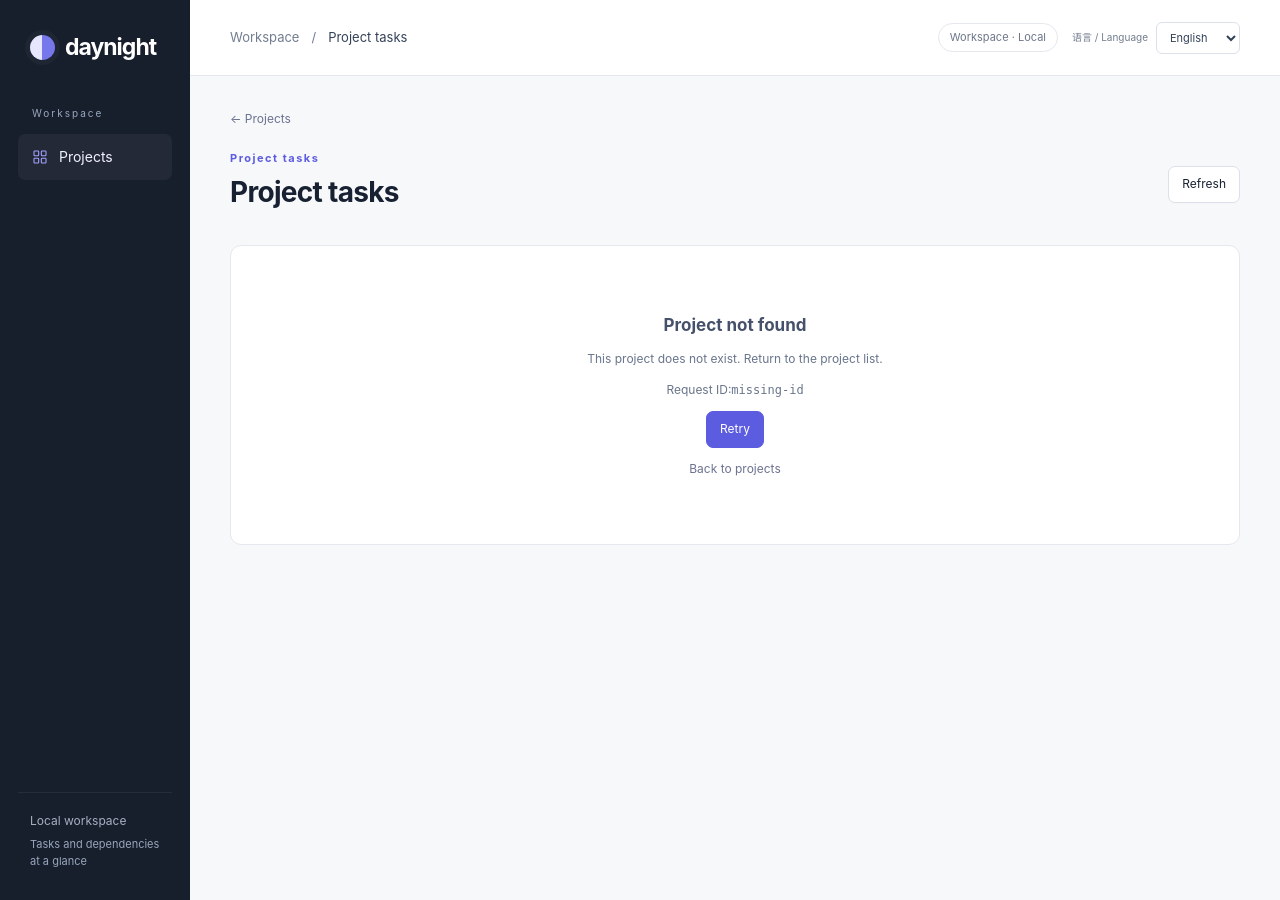
workspace localization › retranslates an existing {"name":"ApiError","kind":"server","status":404,"code":"not_found","requestId":"missing-id"} error and retains its request ID without r
Expected: the heading "Project not found" is shown, [664,312,806,338]
Step 1. Select "简体中文" in the dropdown → (1198, 38), box [1156,22,1240,54]
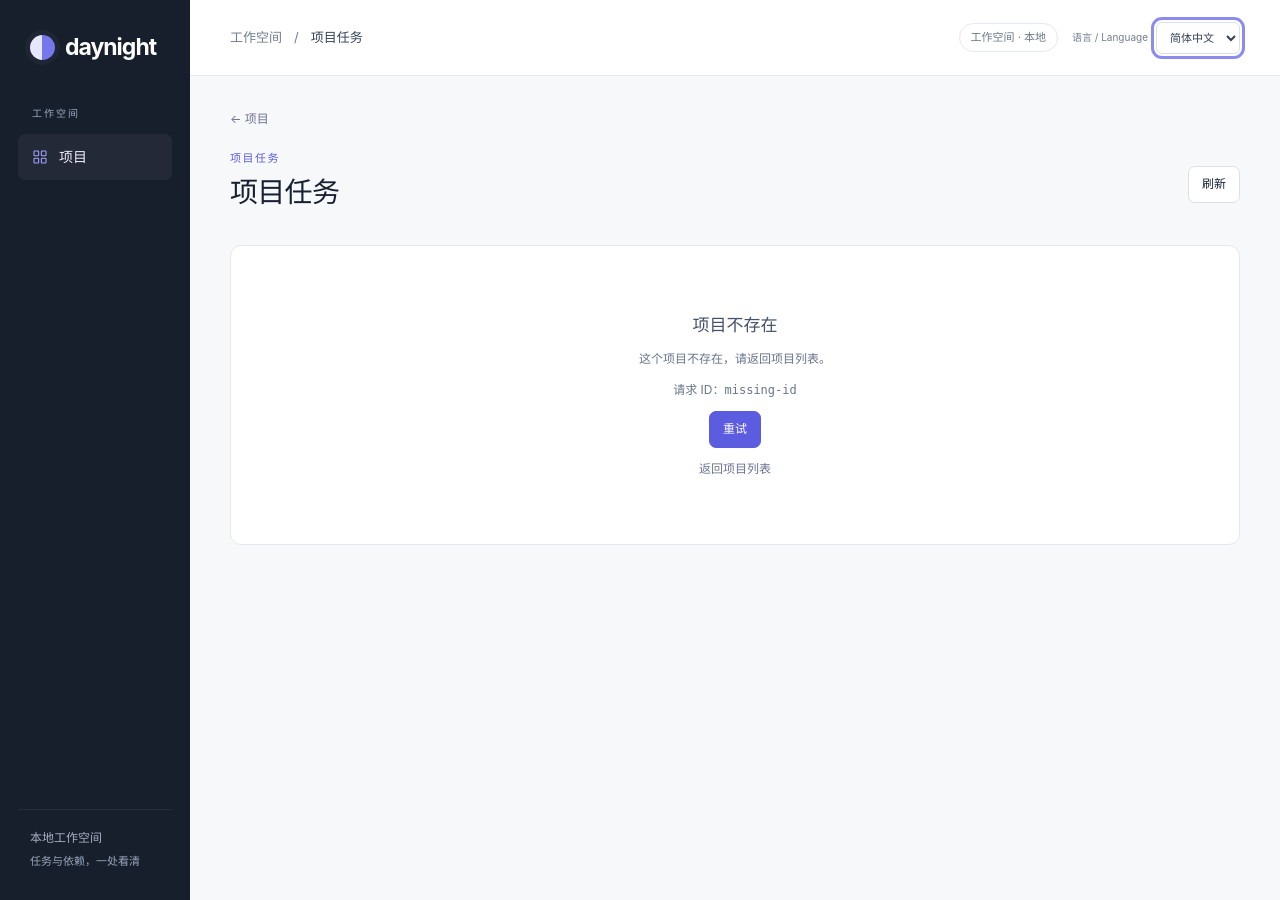
Expected: the text "这个项目不存在，请返回项目列表。" is shown, [639,350,831,369]
